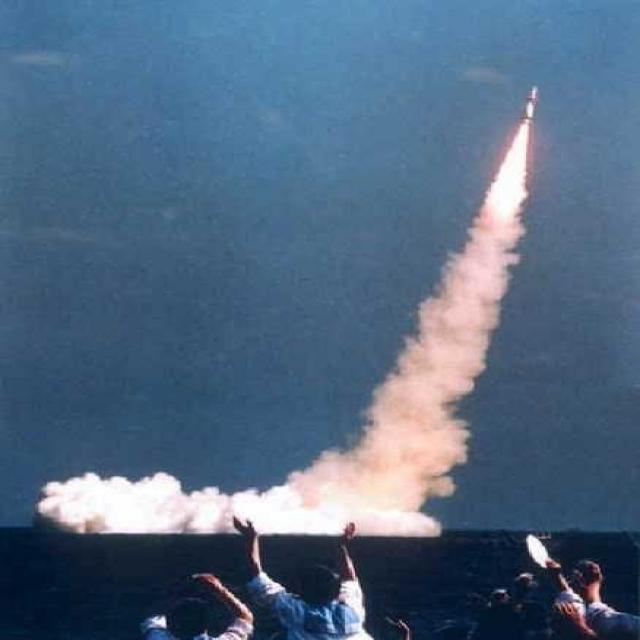missile: (516, 81, 544, 128)
